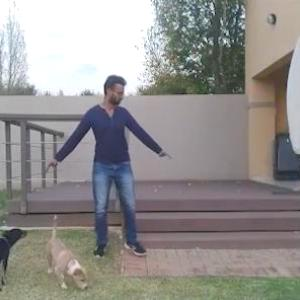land: (48, 72, 172, 252)
